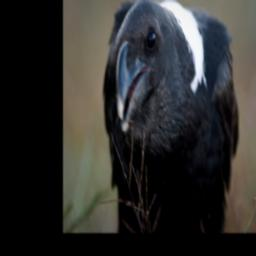Crow: (102, 0, 238, 226)
